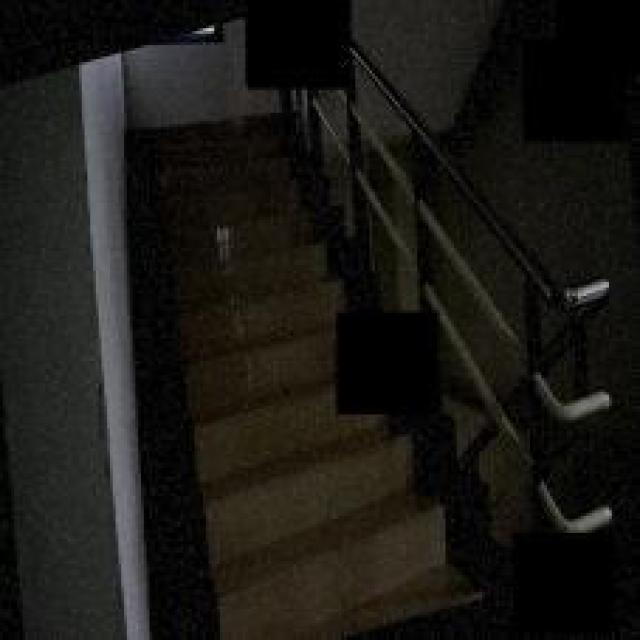upstair: (139, 413, 452, 638)
